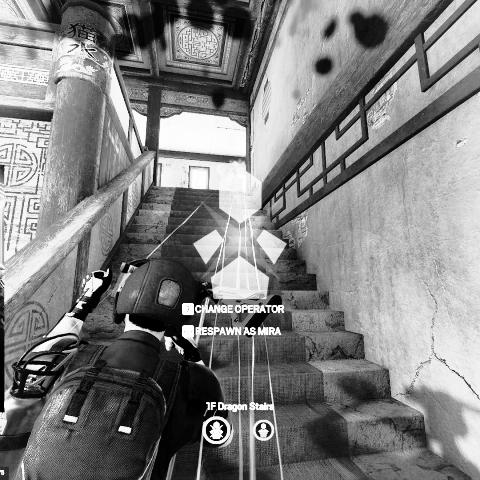Character: (0, 255, 235, 480), (227, 170, 244, 192)
Head: (112, 257, 204, 342), (231, 170, 238, 178)
